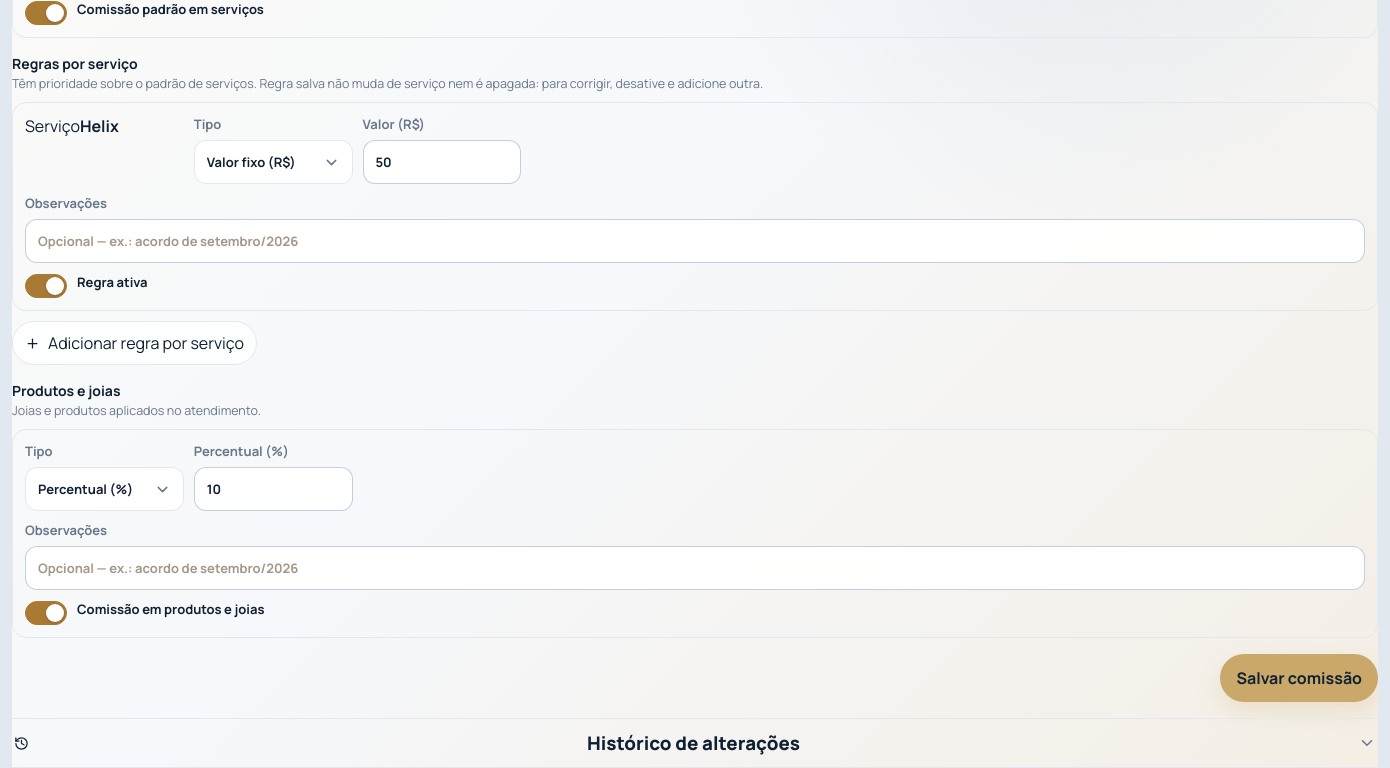
Test: regras de comissão do profissional › mostra o histórico com usuário, data e antes → depois
(page scrolled)
What coordinates should you click on to do the following:
click the button "Histórico de alterações"
I would click on:
 (695, 743)
Its box is [12,719,1378,767].
(page scrolled)
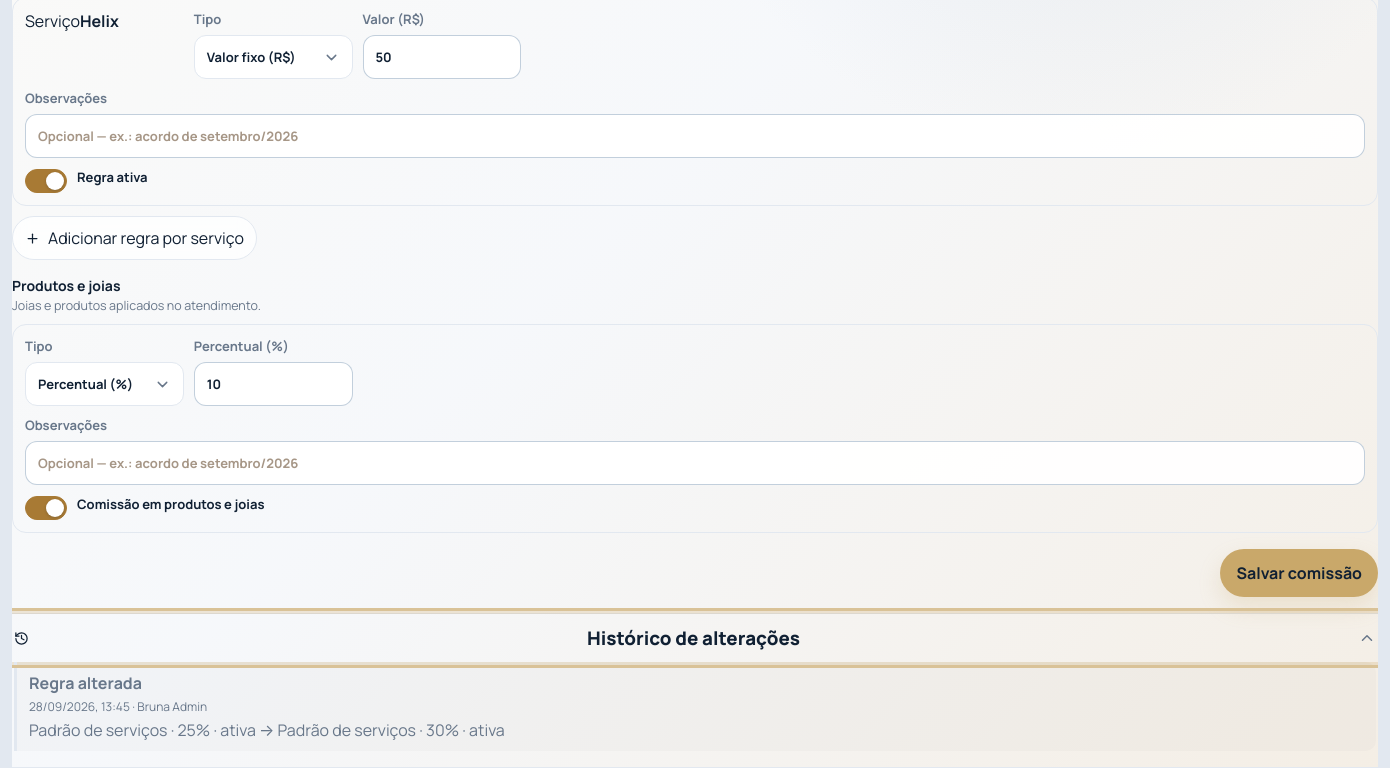
Check: the list named "Histórico de alterações da comissão" shows "Regra alterada", box [29,672,142,694]
Check: the list named "Histórico de alterações da comissão" shows "Bruna Admin", box [137,698,207,715]
Check: the list named "Histórico de alterações da comissão" shows "28/09/2026", box [29,698,130,715]
